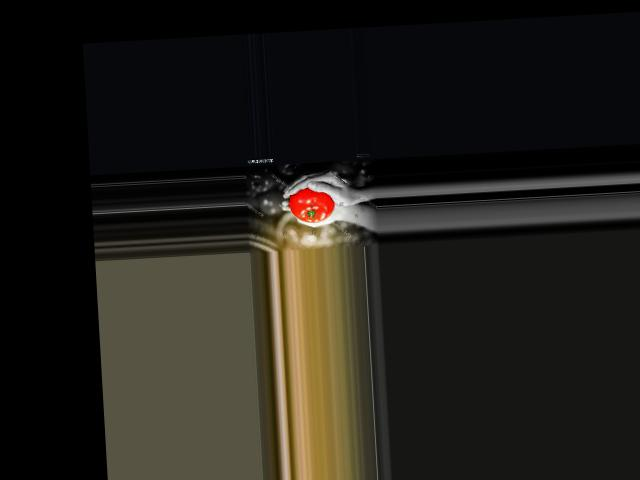tomato: (288, 186, 336, 223)
